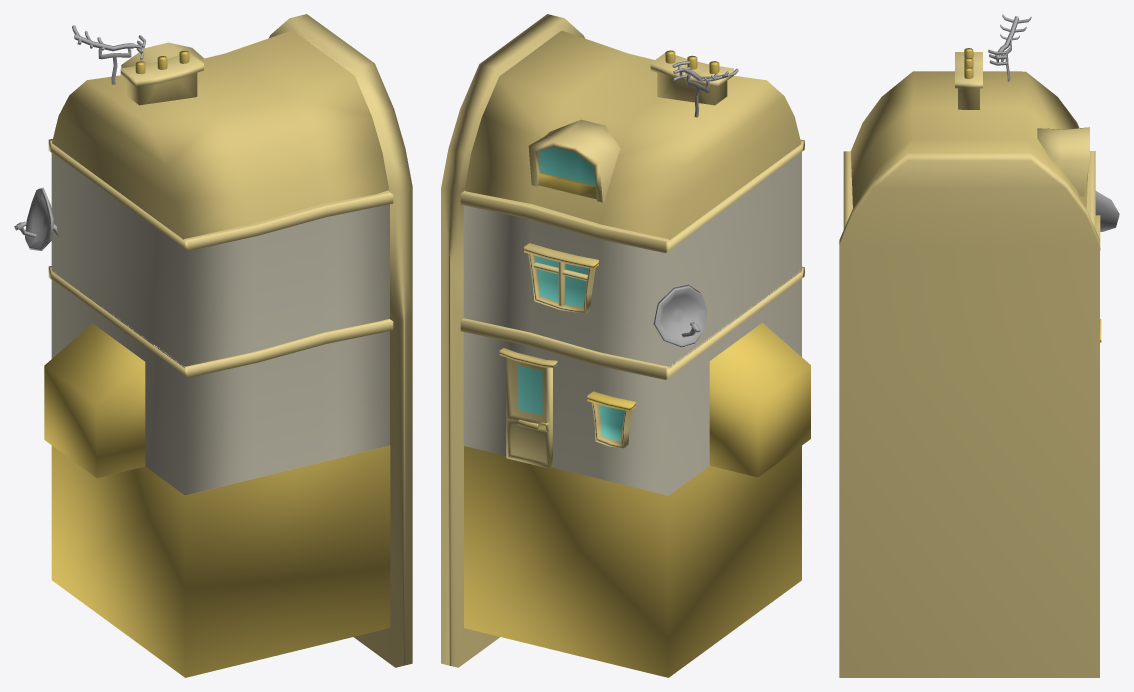
File: Building_C_Test_1.fbx
3 views of the same model, side by side, from view 1: azimuth 30°, elevation 25°; view 2: azimuth 150°, elevation 25°; view 3: azimuth 270°, elevation 25° (orthographic). The views are drawn at different scales.
Visible parts, largest first — view 1: Building_C_Test_1; view 2: Building_C_Test_1; view 3: Building_C_Test_1.
Part boxes in pixels (x1=…): Building_C_Test_1: x1=14, y1=14, x2=412, y2=677; Building_C_Test_1: x1=441, y1=14, x2=810, y2=677; Building_C_Test_1: x1=839, y1=14, x2=1119, y2=677.
Size of the model in its own units: 545 by 1189 by 540.
